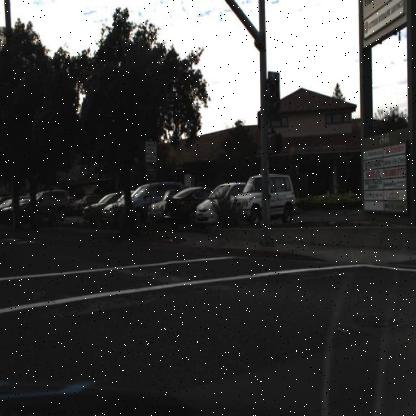car: (236, 173, 298, 221), (196, 180, 246, 222), (121, 183, 164, 224), (165, 182, 210, 219), (160, 186, 208, 219), (32, 191, 72, 226), (83, 188, 123, 221), (149, 186, 177, 224), (102, 190, 132, 219), (10, 192, 31, 226), (2, 194, 18, 218)
